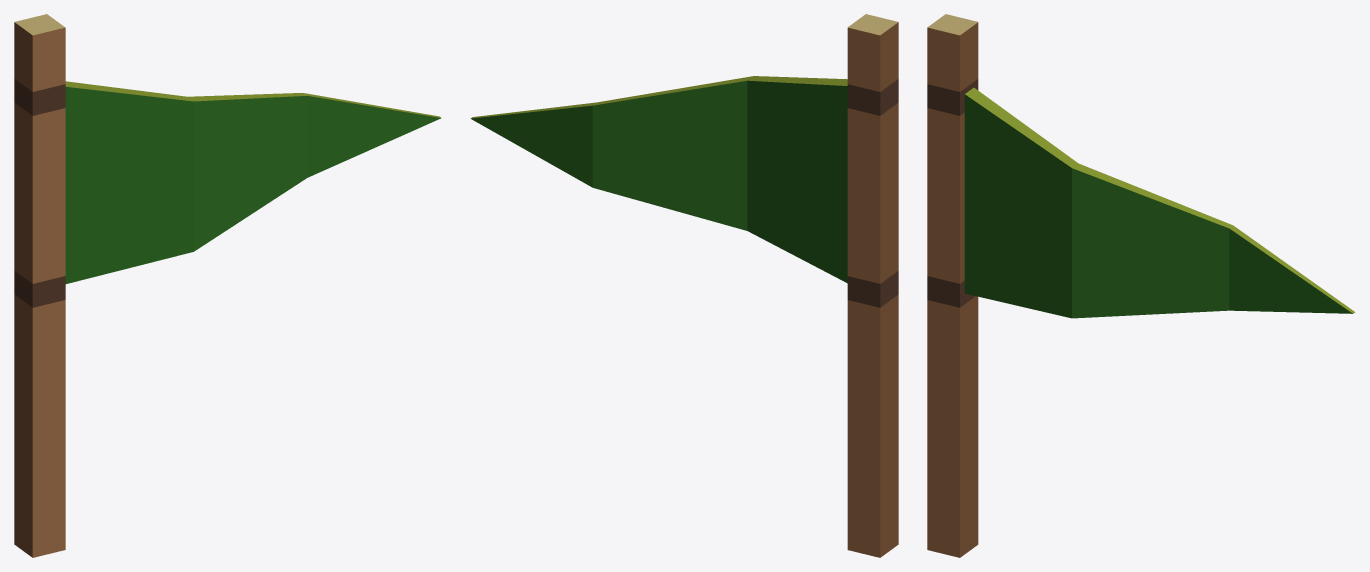
File: TB_D_Prop_Flag_D.FBX
The picture shows the model from 3 angles, left to right: view 1: azimuth 30°, elevation 25°; view 2: azimuth 150°, elevation 25°; view 3: azimuth 330°, elevation 25°; orthographic projection.
Parts seen in each view (by area): view 1: TB_D_Prop_Flag_D; view 2: TB_D_Prop_Flag_D; view 3: TB_D_Prop_Flag_D.
Boxes of the visible parts, x1=… form: TB_D_Prop_Flag_D: x1=14, y1=14, x2=441, y2=557; TB_D_Prop_Flag_D: x1=470, y1=14, x2=898, y2=557; TB_D_Prop_Flag_D: x1=927, y1=14, x2=1355, y2=557.
Size of the model in its own units: 2.19 by 2.62 by 0.2422.
